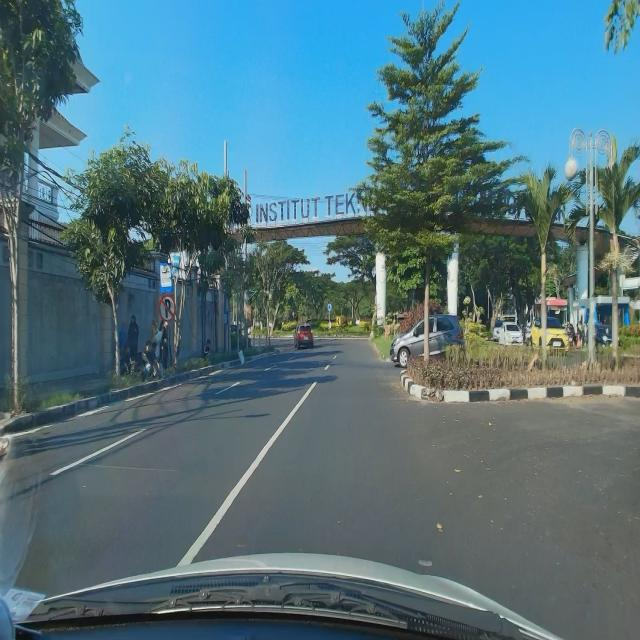car: (294, 323, 314, 351)
